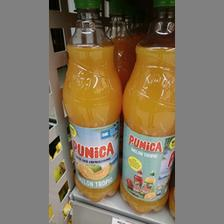Saft: (61, 1, 122, 200), (119, 2, 174, 214)
